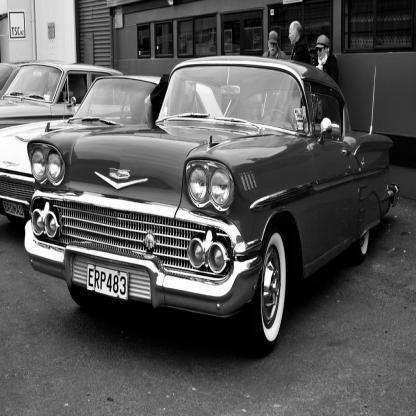car: (47, 20, 411, 357)
